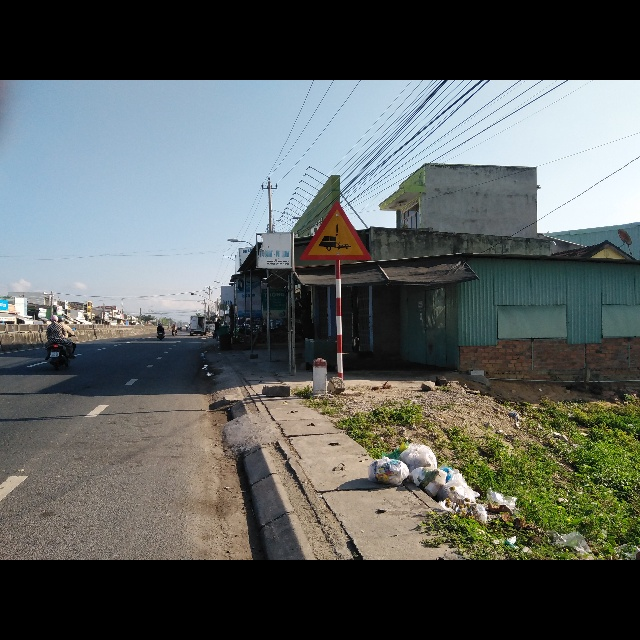Đoạn đường hay xảy ra tai nạn: (300, 200, 374, 262)
